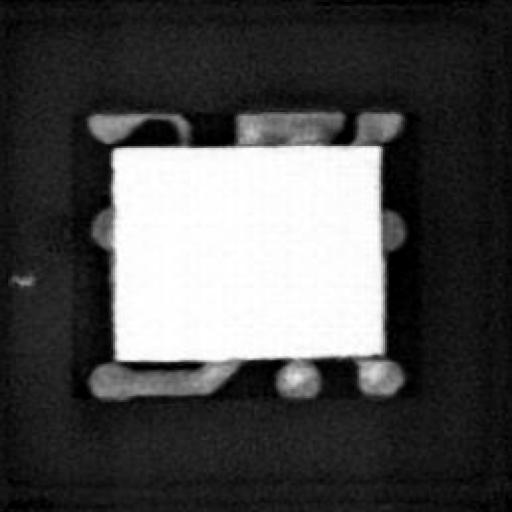DIE_INK: (8, 270, 36, 286)
